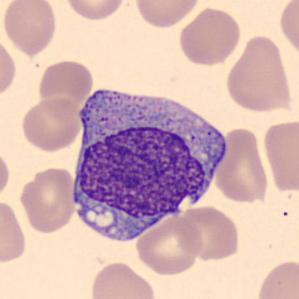Monocyte: (67, 80, 230, 244)
RBC: (223, 32, 295, 115), (138, 247, 239, 299), (133, 211, 204, 278), (213, 125, 271, 205), (17, 164, 77, 234), (176, 5, 243, 67), (175, 203, 242, 262), (19, 96, 83, 152), (0, 0, 59, 57), (36, 58, 94, 114), (260, 117, 299, 193), (88, 259, 158, 299), (132, 0, 203, 29), (0, 198, 29, 266), (254, 258, 299, 299), (63, 0, 128, 22), (276, 0, 299, 59), (0, 36, 18, 102), (0, 147, 12, 202)
